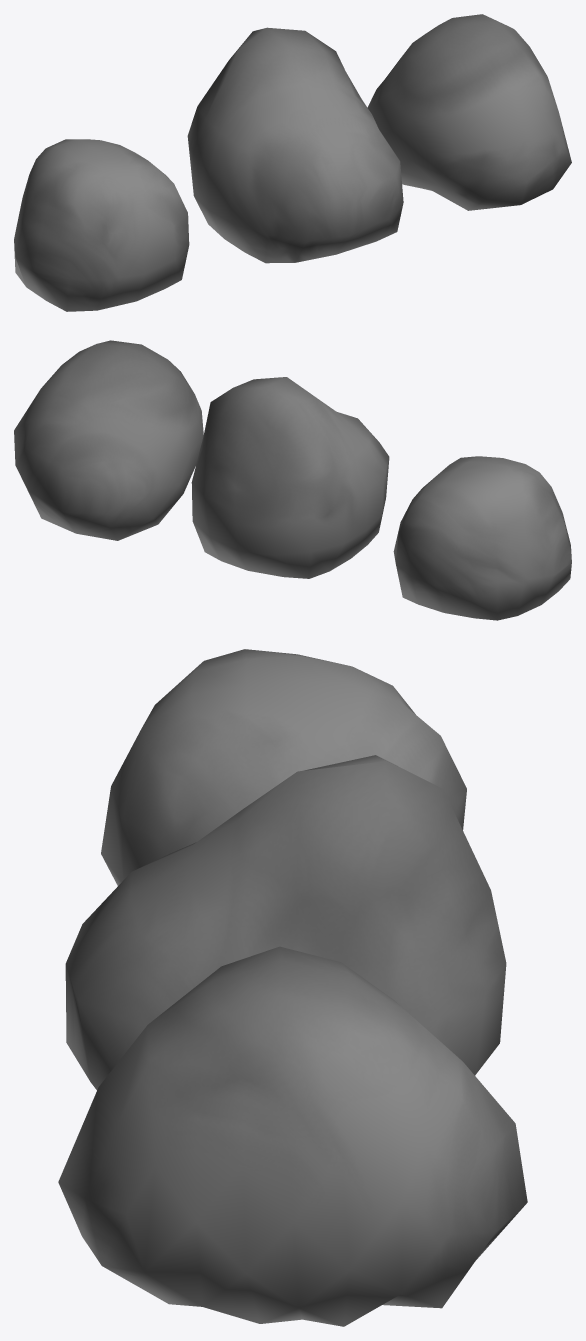
File: rocks.fbx
3 renders of one model, top to bottom at view 1: azimuth 30°, elevation 25°; view 2: azimuth 150°, elevation 25°; view 3: azimuth 270°, elevation 25°, orthographic. The views are drawn at different scales.
Parts seen in each view (by area): view 1: rock1, rock2, rock3; view 2: rock1, rock2, rock3; view 3: rock2, rock1, rock3.
Boxes of the visible parts, left/top/right/bottom form: rock1: left=187, top=27, right=403, bottom=263; rock2: left=367, top=14, right=571, bottom=210; rock3: left=14, top=139, right=189, bottom=311; rock1: left=191, top=377, right=389, bottom=578; rock2: left=14, top=340, right=203, bottom=540; rock3: left=393, top=456, right=571, bottom=620; rock2: left=58, top=946, right=527, bottom=1326; rock1: left=65, top=755, right=506, bottom=1089; rock3: left=101, top=649, right=466, bottom=885.
Bounding box in the file's own units: 588 × 187 × 233.
Materials: 3 (3 with a texture image).
